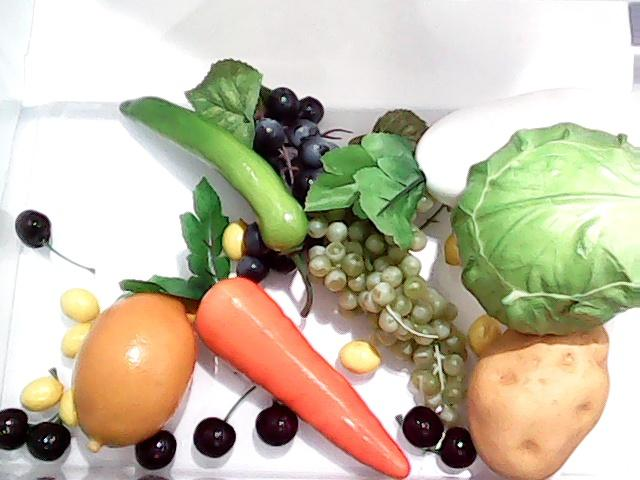cabbage: (448, 116, 640, 346)
carrot: (116, 176, 410, 480)
grape: (303, 221, 469, 427), (234, 91, 336, 281)
lemon: (67, 289, 201, 459)
pepper: (116, 85, 316, 259)
potato: (464, 319, 611, 480)
radish: (302, 90, 640, 253)
